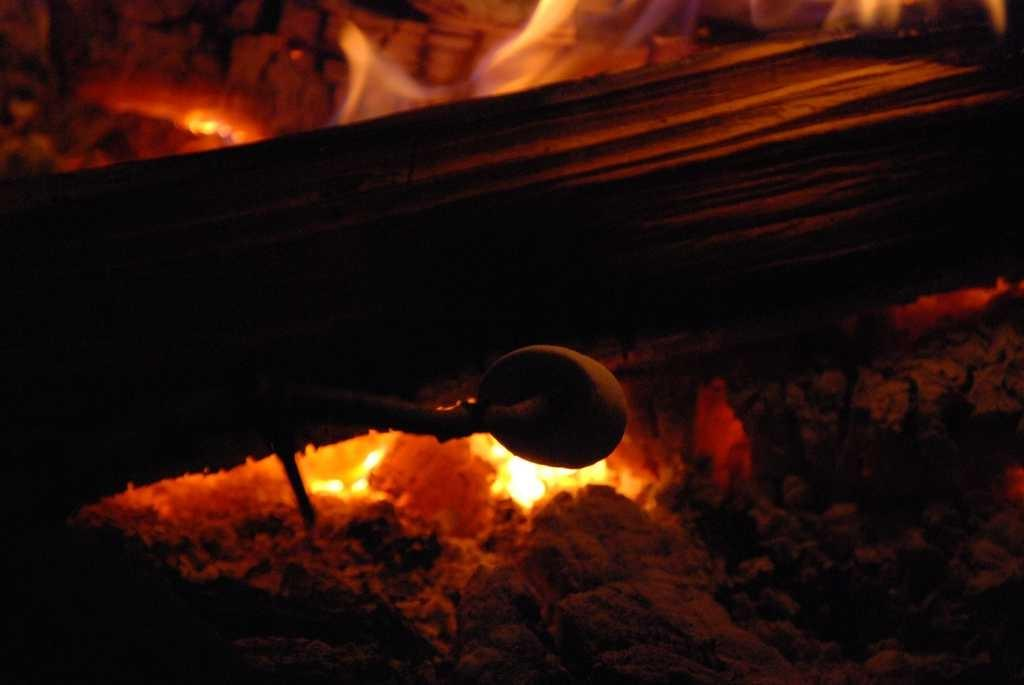fire: (347, 3, 677, 103), (493, 452, 563, 512), (312, 437, 388, 490)
